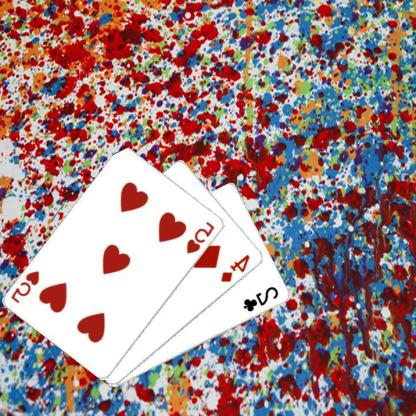2C: (243, 284, 282, 313)
4D: (220, 252, 254, 284)
5H: (10, 268, 43, 304), (186, 219, 218, 255)
